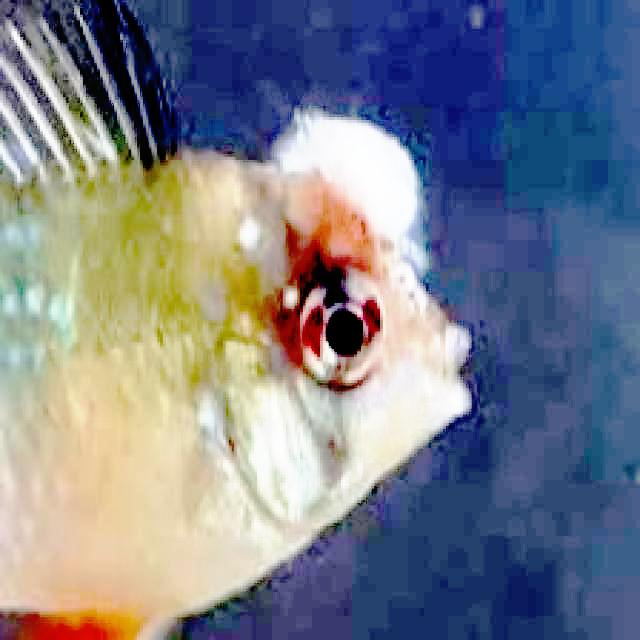Fungal Disease -Saprolegniasis-: (1, 0, 469, 640), (1, 0, 469, 639)
